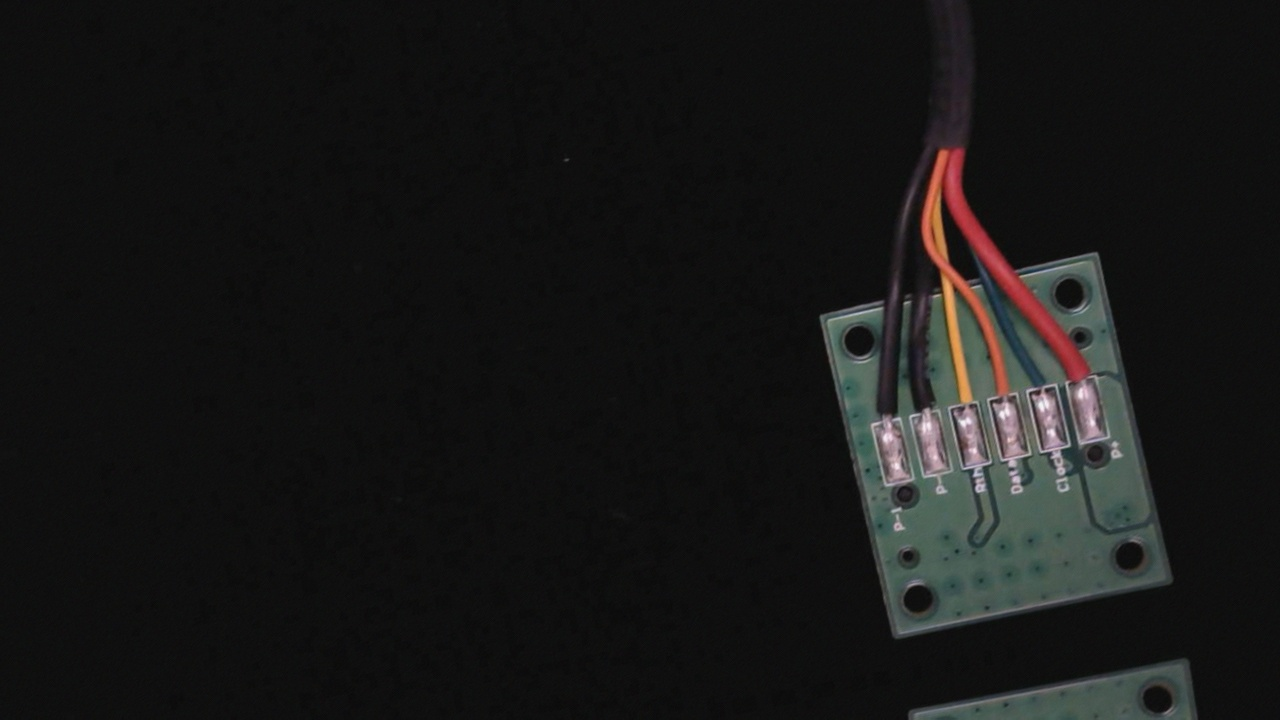Black: (899, 364, 944, 433)
Black1: (860, 369, 905, 441)
Green: (1017, 344, 1061, 409)
Orange: (977, 346, 1021, 414)
Red: (1053, 322, 1100, 397)
Yellow: (941, 354, 984, 424)
